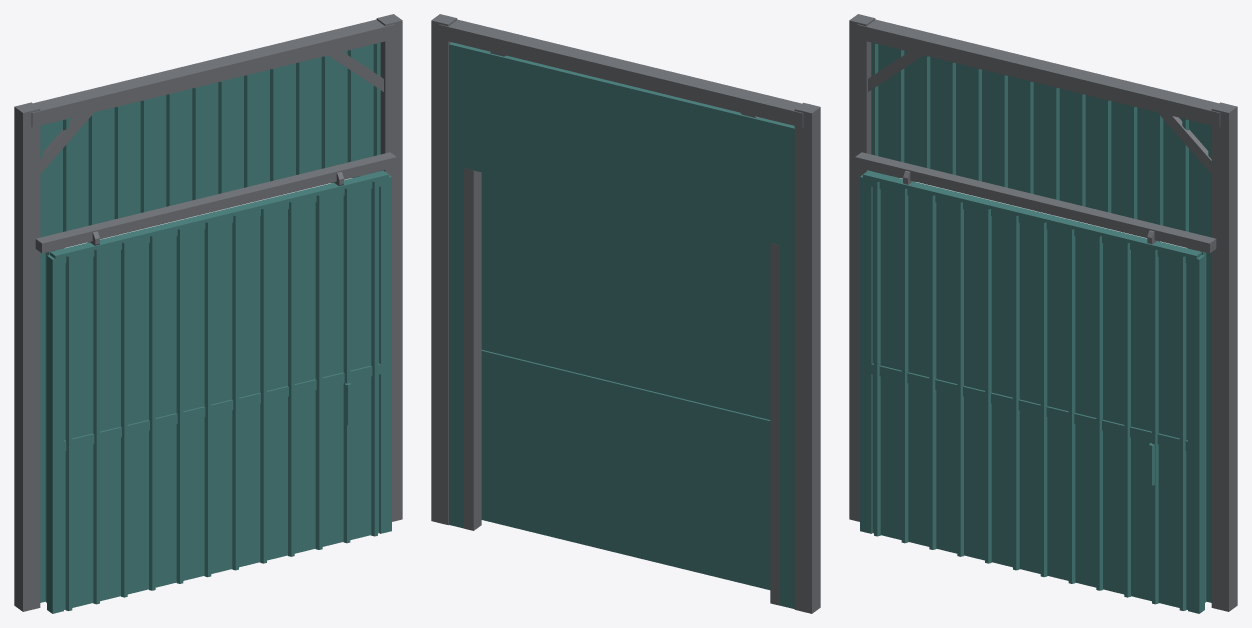
Rendered from steampunk-airship-dock-and-workshop-shed-wall-door-302e76d0.glb.
The picture shows the model from 3 angles, left to right: view 1: azimuth 30°, elevation 25°; view 2: azimuth 150°, elevation 25°; view 3: azimuth 330°, elevation 25°; orthographic projection.
Visible parts, largest first — view 1: shed-door/paint, shed-wall-door; view 2: shed-door/paint, shed-wall-door; view 3: shed-door/paint, shed-wall-door.
Part boxes in pixels (x1,y1,x2,y2): shed-door/paint: (47,170,391,613); shed-wall-door: (14,14,402,611); shed-door/paint: (481,172,770,589); shed-wall-door: (431,14,820,613); shed-door/paint: (860,170,1204,613); shed-wall-door: (849,14,1237,611).
Size of the model in its own units: 3.98 by 5 by 0.396.
